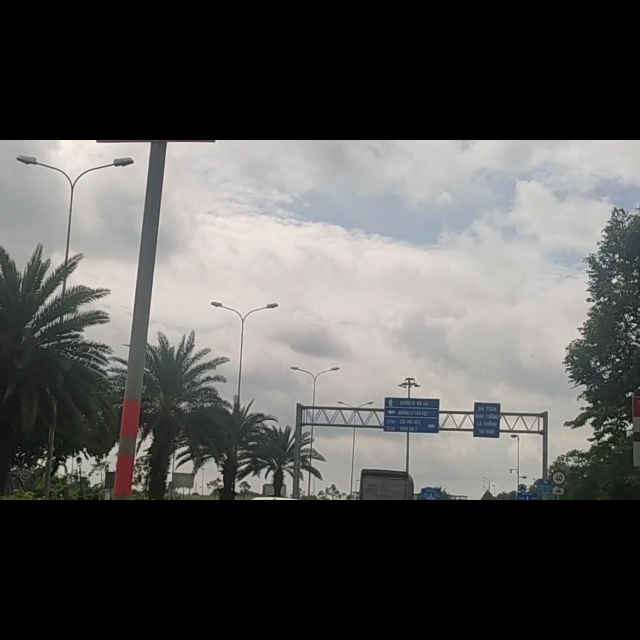bien_chi_dan: (551, 588, 567, 613)
